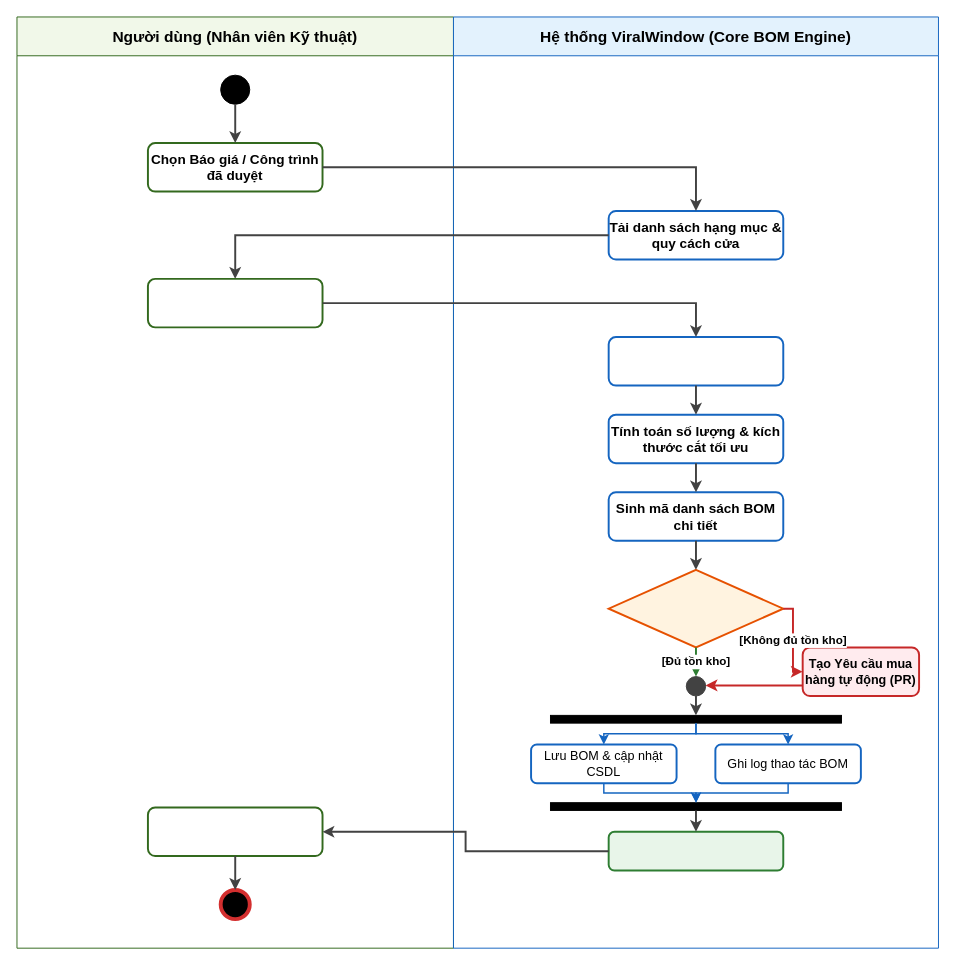
Image size: 955x965. Some labels were removed from this diagram. The centre of each missing label's shape, as x and y in pixels:
"Hiển thị bảng BOM & bản vẽ" goes at point (695, 850).
"Kiểm tra & Phê duyệt bảng BOM" goes at point (234, 831).
"Lấy công thức & tham số mặt cắt nhôm/kính" goes at point (695, 361).
"Ra lệnh bóc tách vật tư (BOM)" goes at point (234, 302).
"Vật tư đủ tồn kho?" goes at point (695, 608).
